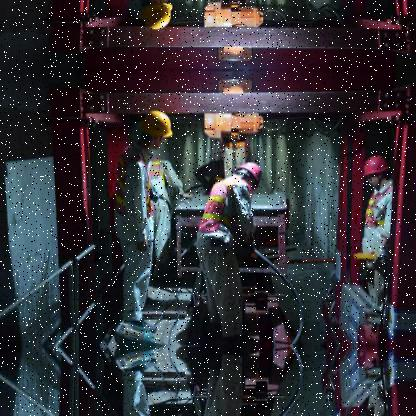Helmet: (134, 1, 182, 37), (138, 108, 172, 154), (351, 156, 390, 196), (236, 156, 263, 196)
